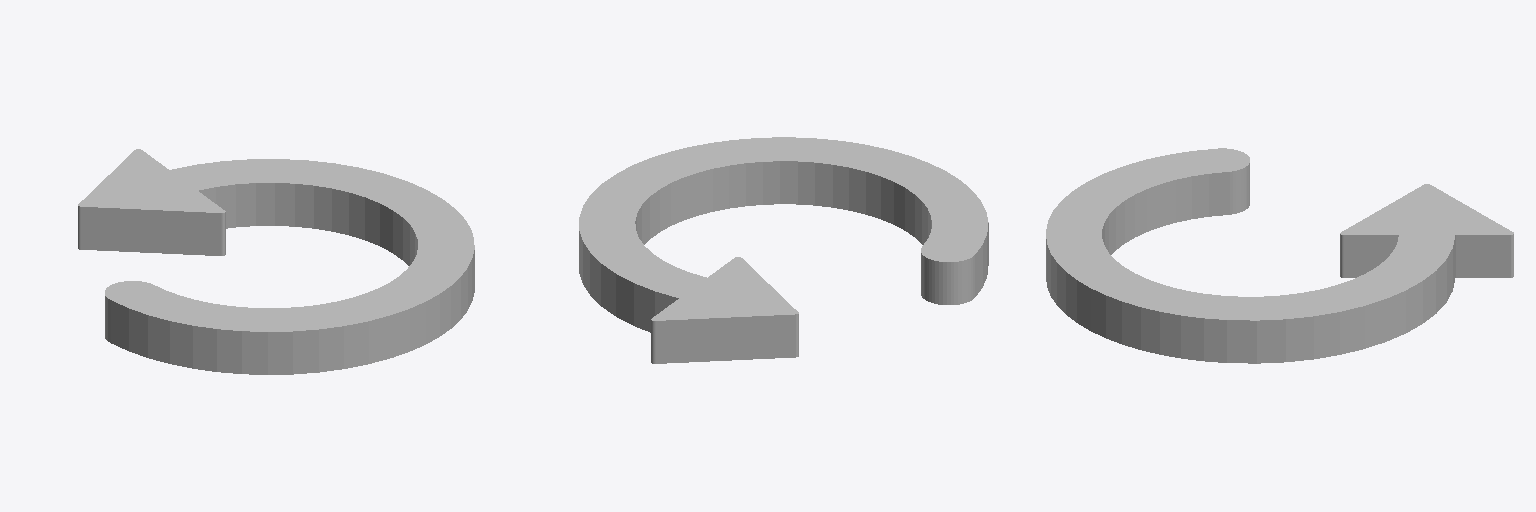
File: reload.obj
The picture shows the model from 3 angles: view 1: azimuth 30°, elevation 25°; view 2: azimuth 150°, elevation 25°; view 3: azimuth 270°, elevation 25°; orthographic projection.
Parts seen in each view (by area): view 1: Curve; view 2: Curve; view 3: Curve.
Part boxes in pixels (bbox=[...]): Curve: bbox=[78, 149, 474, 374]; Curve: bbox=[579, 137, 988, 363]; Curve: bbox=[1046, 148, 1513, 363].
Size of the model in its own units: 0.1202 by 0.014 by 0.1381.